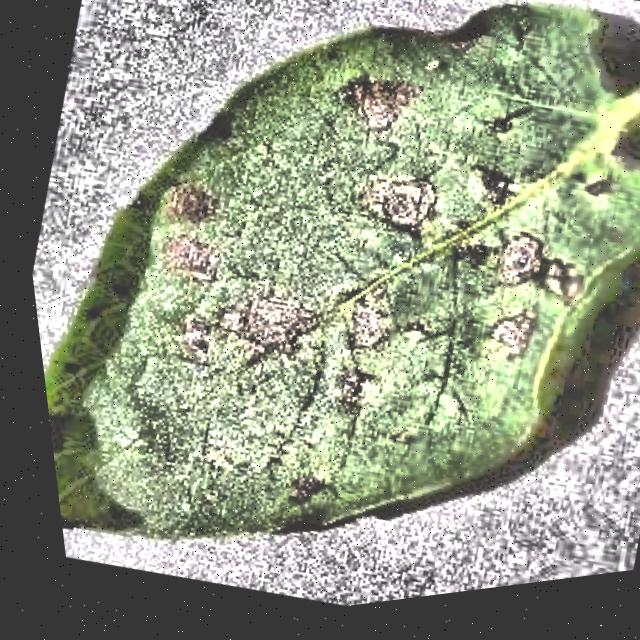Potato_leaf_early_blight: (45, 7, 640, 540)
